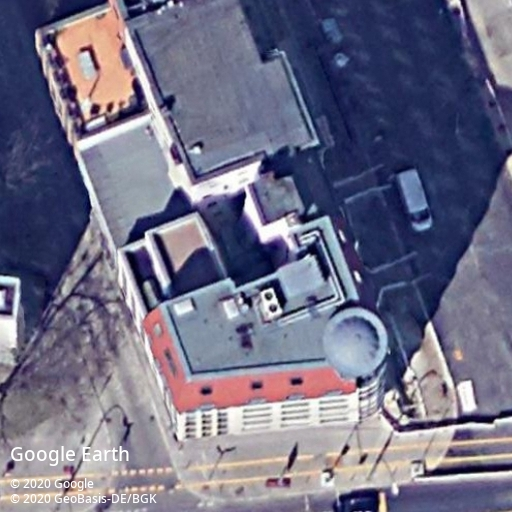Chiller: (259, 288, 283, 320)
